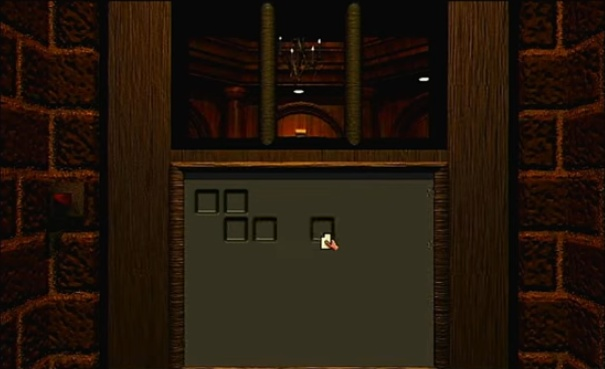Keep: (317, 231, 340, 253)
